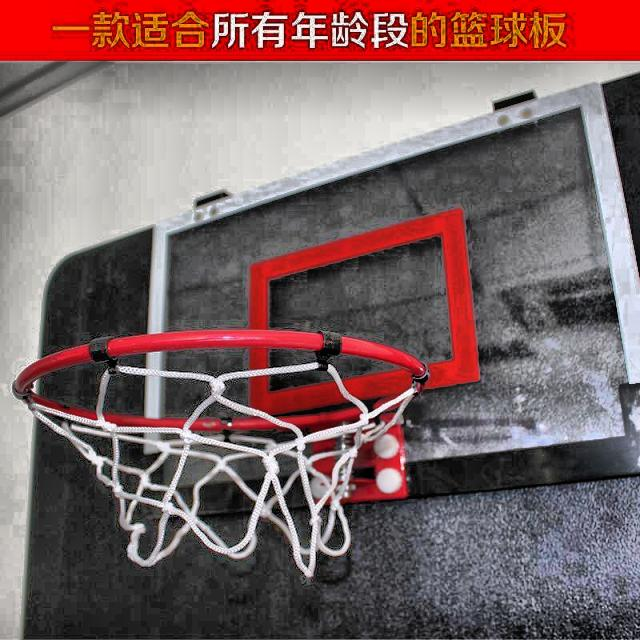rim: (14, 332, 427, 577)
